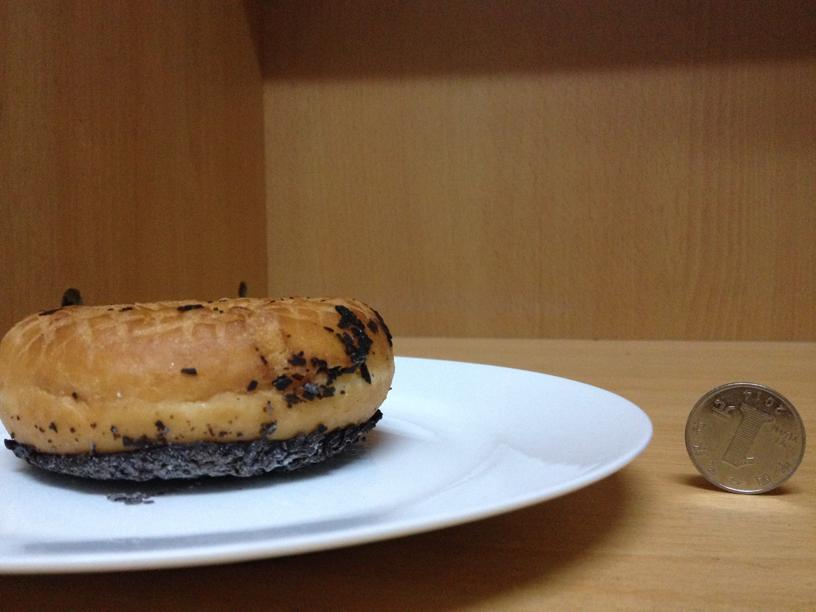coin: (684, 379, 805, 493)
doughnut: (3, 300, 394, 487)
